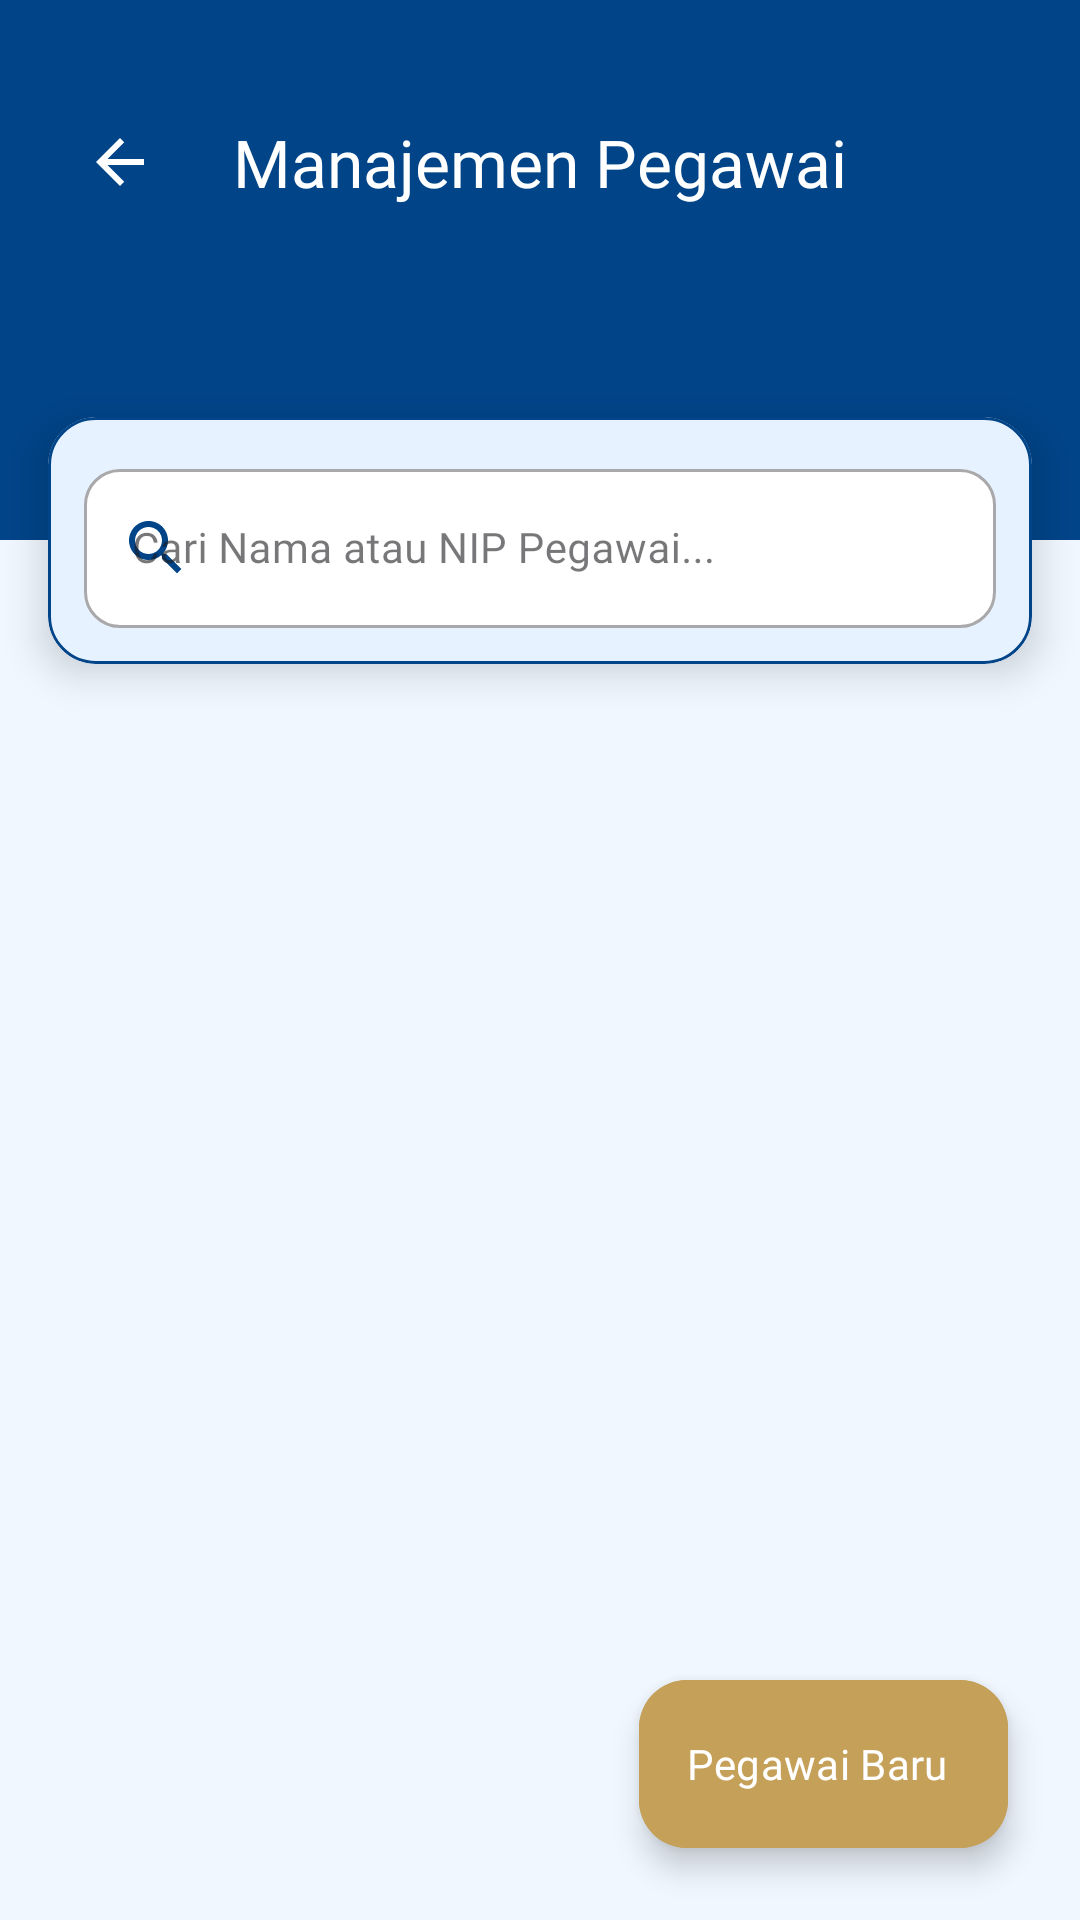

Where to tap for icons on this 1080px x 1920px app screen, as (x,y):
arrow back: (120,162)
